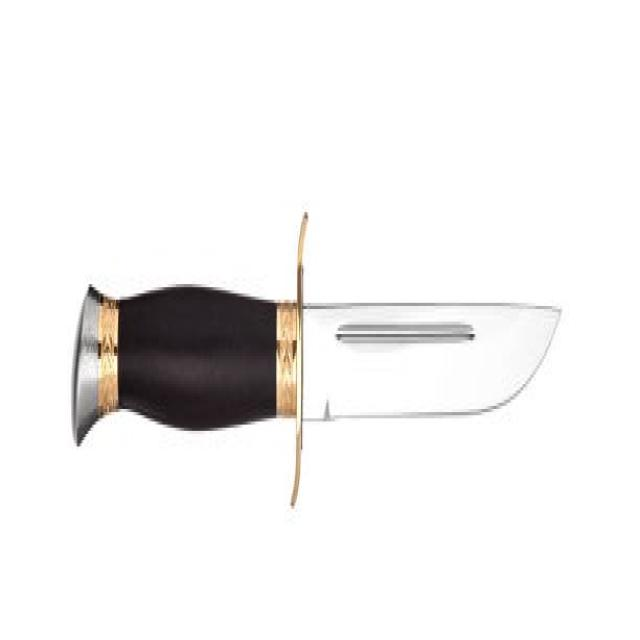knife: (68, 197, 571, 466)
